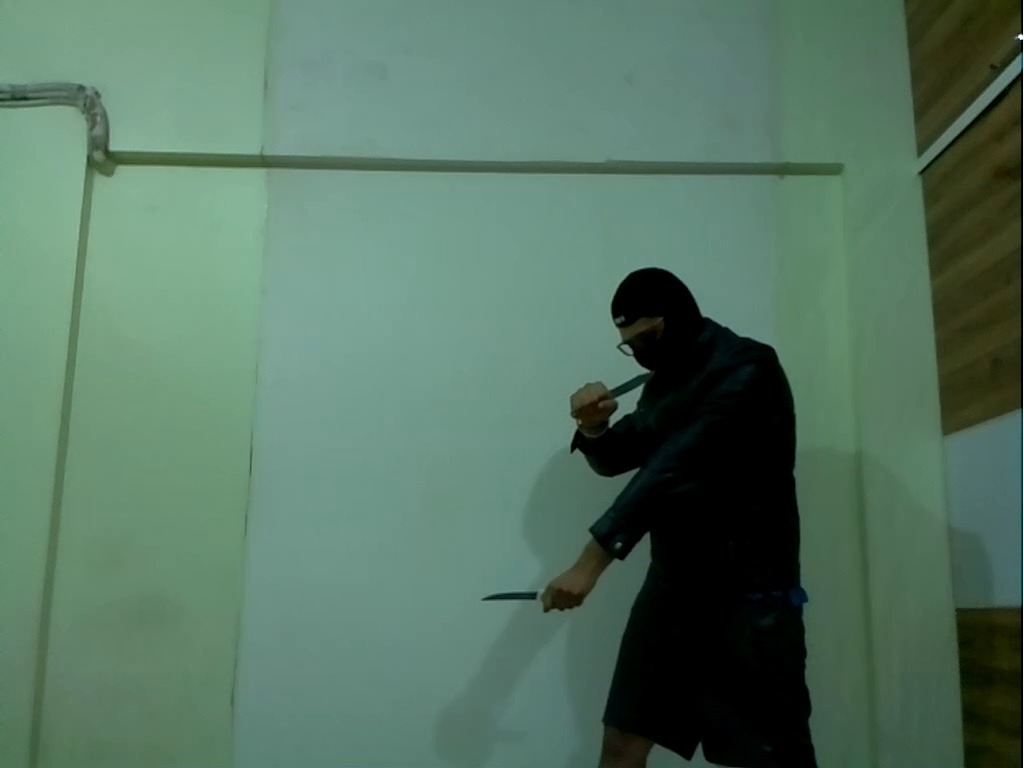knife: (472, 587, 566, 608)
